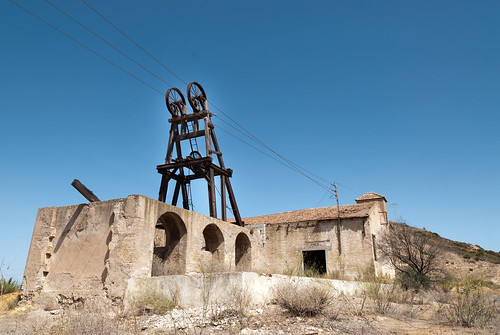building: (21, 193, 395, 304)
sky: (17, 1, 500, 184)
